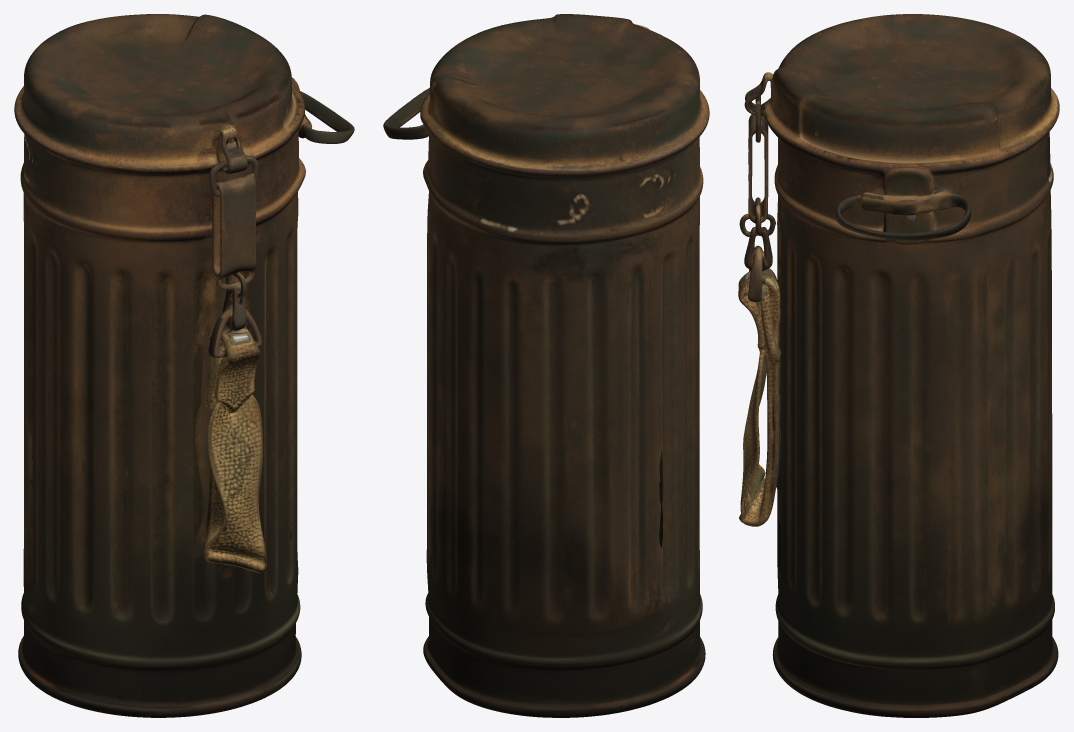
The model's file is bak_3d.glb.
The picture shows the model from 3 angles, left to right: view 1: azimuth 30°, elevation 25°; view 2: azimuth 150°, elevation 25°; view 3: azimuth 270°, elevation 25°; orthographic projection.
Bounding box in the file's own units: 0.9906 × 1.9 × 0.9291.
1 material, 1 textured.
